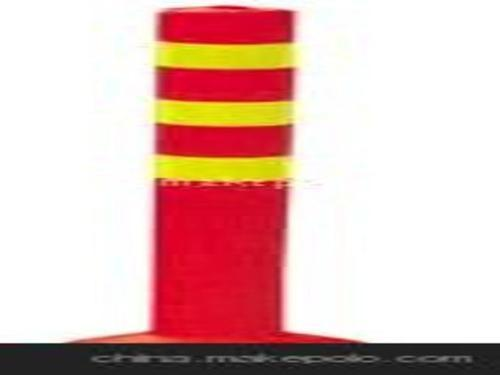cone_barrel: (140, 5, 308, 329)
